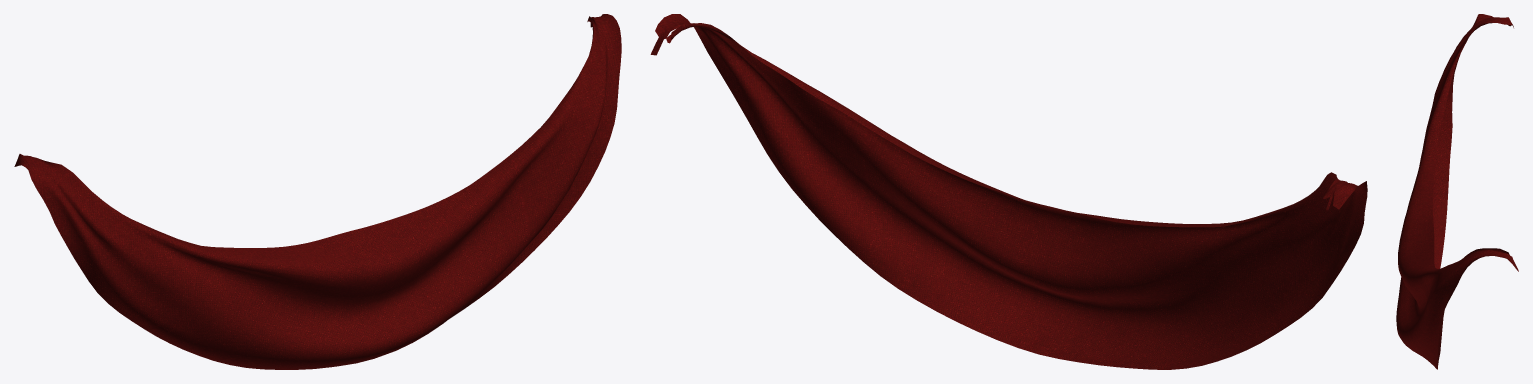
File: Modeling_Curtain_2ndfloor.FBX
The picture shows the model from 3 angles, left to right: view 1: azimuth 30°, elevation 25°; view 2: azimuth 150°, elevation 25°; view 3: azimuth 270°, elevation 25°; orthographic projection. The views are drawn at different scales.
Visible parts, largest first — view 1: Group13037; view 2: Group13037; view 3: Group13037.
Part boxes in pixels (<box>): Group13037: <box>14,14,621,369</box>; Group13037: <box>650,14,1367,369</box>; Group13037: <box>1396,14,1518,369</box>.
Bounding box in the file's own units: 487 × 194 × 103.
